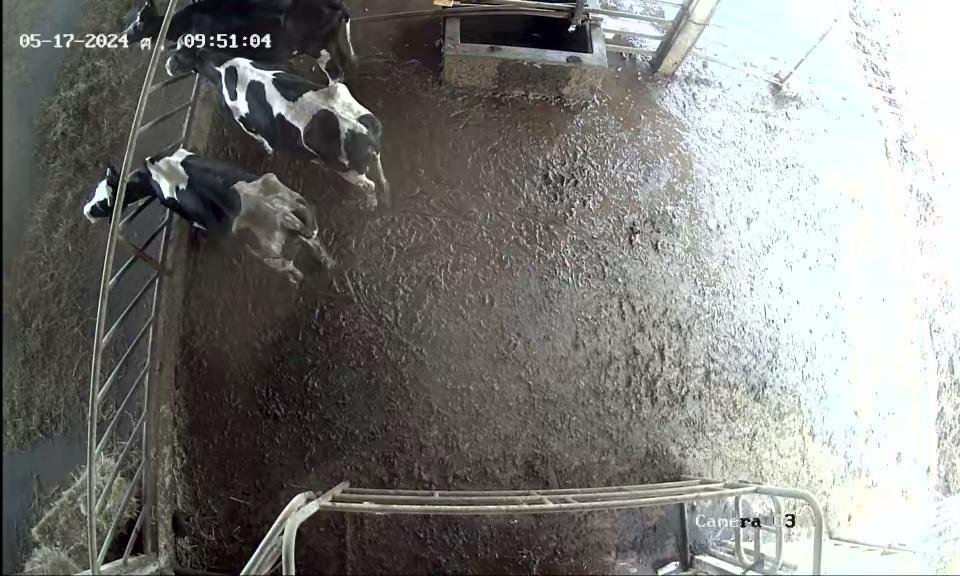eat: (70, 151, 193, 232), (113, 2, 221, 48)
stand: (164, 41, 413, 203)
